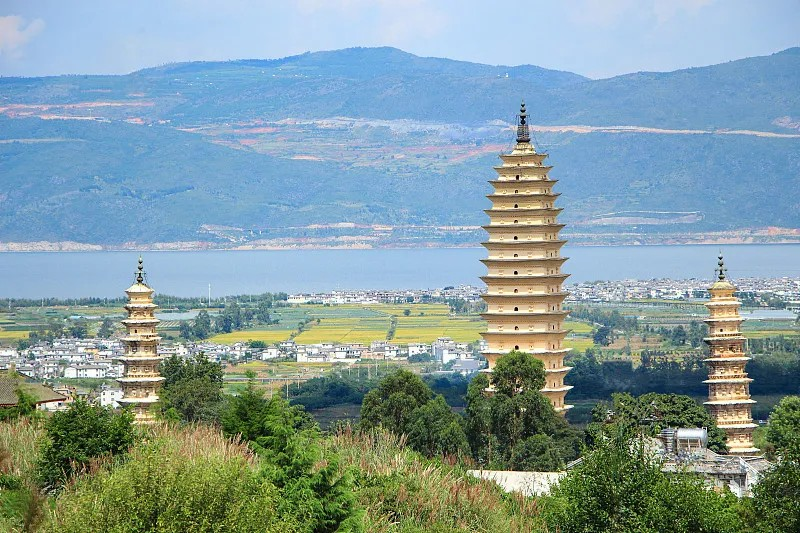ThreePagoda: (479, 100, 575, 414)
